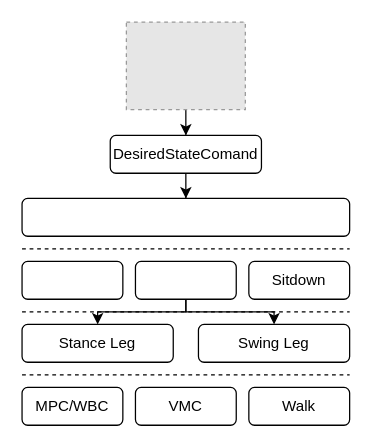
Some shapes in this 373 by 447 pixel diagram are drawn without their labels. Grey dashed boxes stand in for pictures. Each missing label, with the centre of its shape:
ControlFSM: (x=185, y=216)
Locomotion: (x=185, y=279)
Standup: (x=72, y=279)
